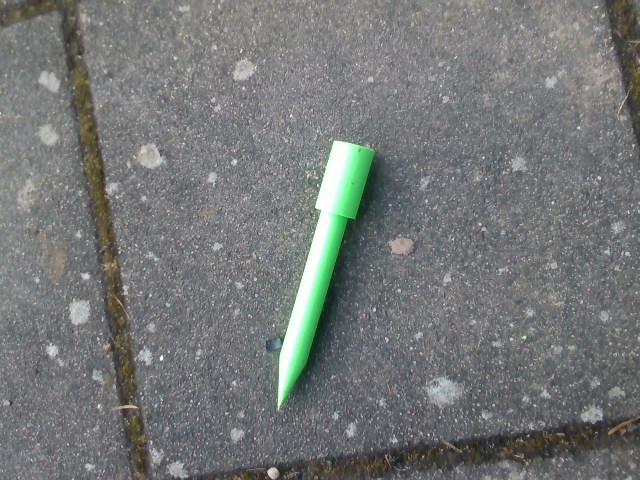Probe: (274, 137, 377, 414)
